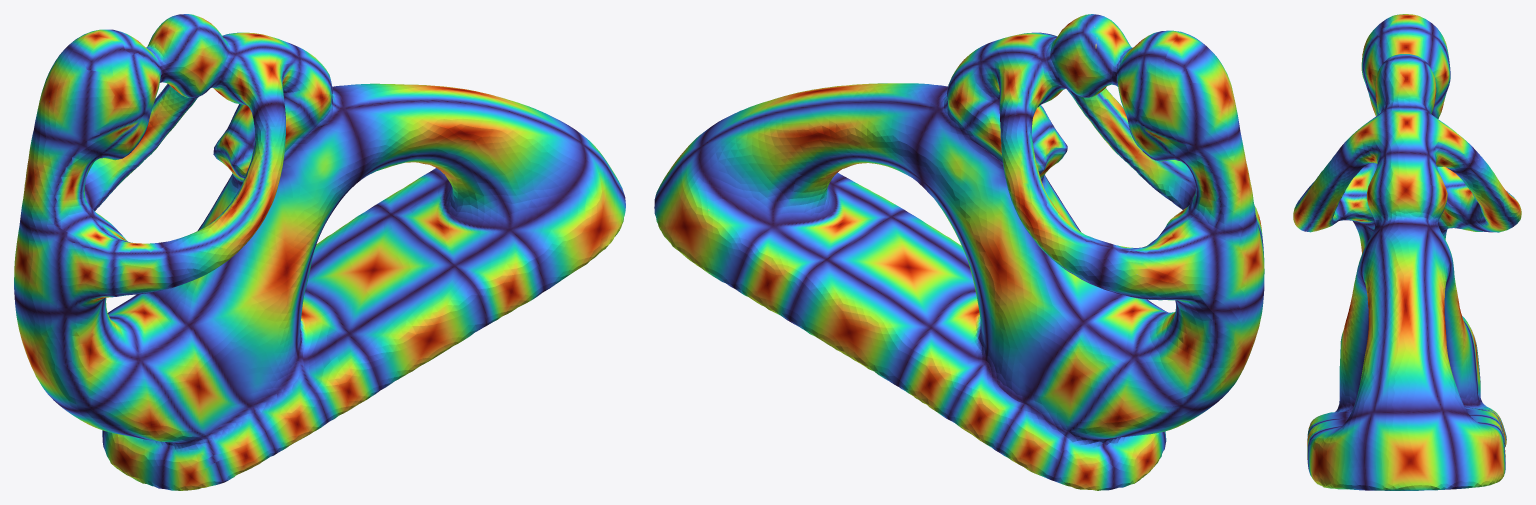
The model's file is gen1.glb.
3 renders of one model, left to right at view 1: azimuth 30°, elevation 25°; view 2: azimuth 150°, elevation 25°; view 3: azimuth 270°, elevation 25°, orthographic. The views are drawn at different scales.
Parts seen in each view (by area): view 1: Node; view 2: Node; view 3: Node.
Part boxes in pixels (<box>): Node: <box>14,14,625,490</box>; Node: <box>654,14,1264,490</box>; Node: <box>1293,14,1521,490</box>.
Bounding box in the file's own units: 199 × 144 × 73.25.
Materials: 1 (1 with a texture image).
